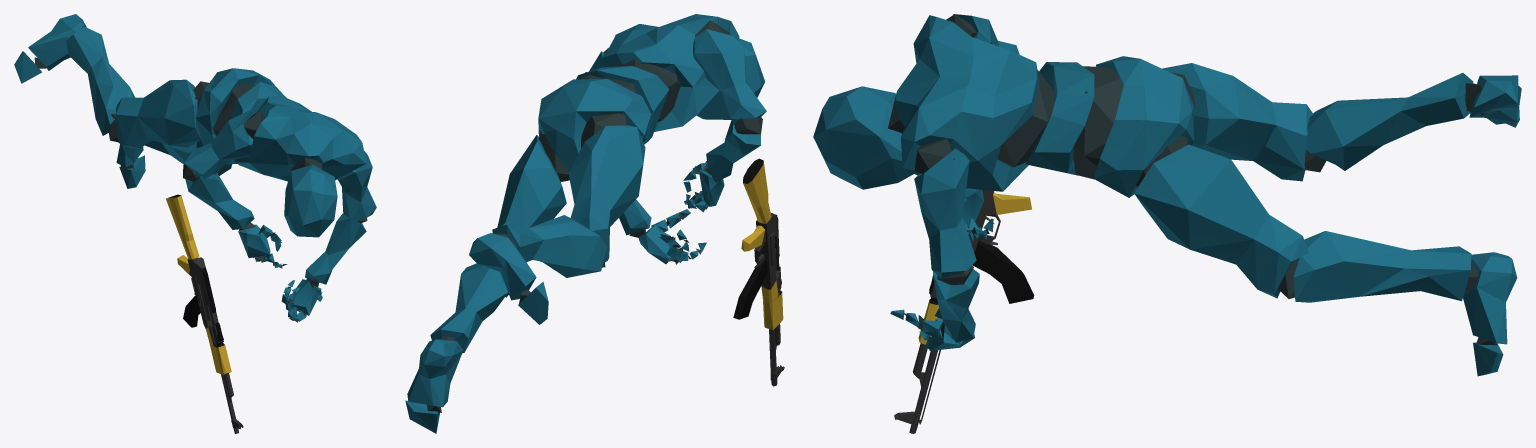
Rendered from EnemyDying_000028.obj.
3 renders of one model, left to right at view 1: azimuth 30°, elevation 25°; view 2: azimuth 150°, elevation 25°; view 3: azimuth 270°, elevation 25°, orthographic. The views are drawn at different scales.
Parts seen in each view (by area): view 1: Alpha_Surface, AK-47_Cube, Alpha_Joints; view 2: Alpha_Surface, AK-47_Cube, Alpha_Joints; view 3: Alpha_Surface, Alpha_Joints, AK-47_Cube.
Part boxes in pixels (x1,y1,x2,y2): Alpha_Surface: (14, 14, 376, 321); AK-47_Cube: (166, 194, 243, 433); Alpha_Joints: (34, 25, 367, 322); Alpha_Surface: (405, 14, 766, 433); AK-47_Cube: (733, 158, 784, 386); Alpha_Joints: (426, 20, 762, 412); Alpha_Surface: (813, 14, 1521, 376); Alpha_Joints: (888, 14, 1514, 351); AK-47_Cube: (894, 190, 1034, 433).
Bounding box in the file's own units: 137 × 223 × 321.
